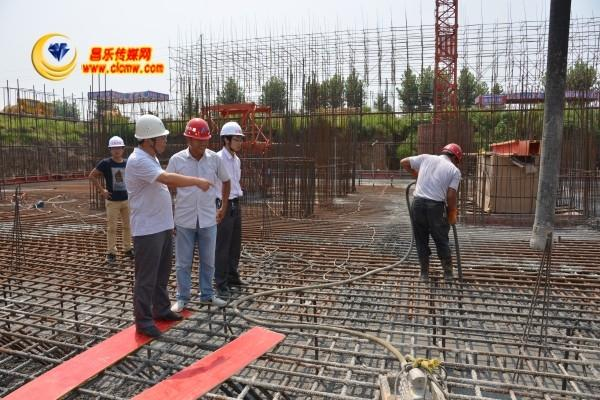helmet: (28, 30, 85, 83), (134, 114, 170, 140), (184, 117, 213, 139), (219, 121, 246, 138), (442, 143, 463, 155), (106, 134, 125, 147)
no_wear: (172, 153, 220, 233), (129, 153, 167, 238), (417, 156, 455, 202), (218, 149, 243, 201), (99, 159, 128, 199)
